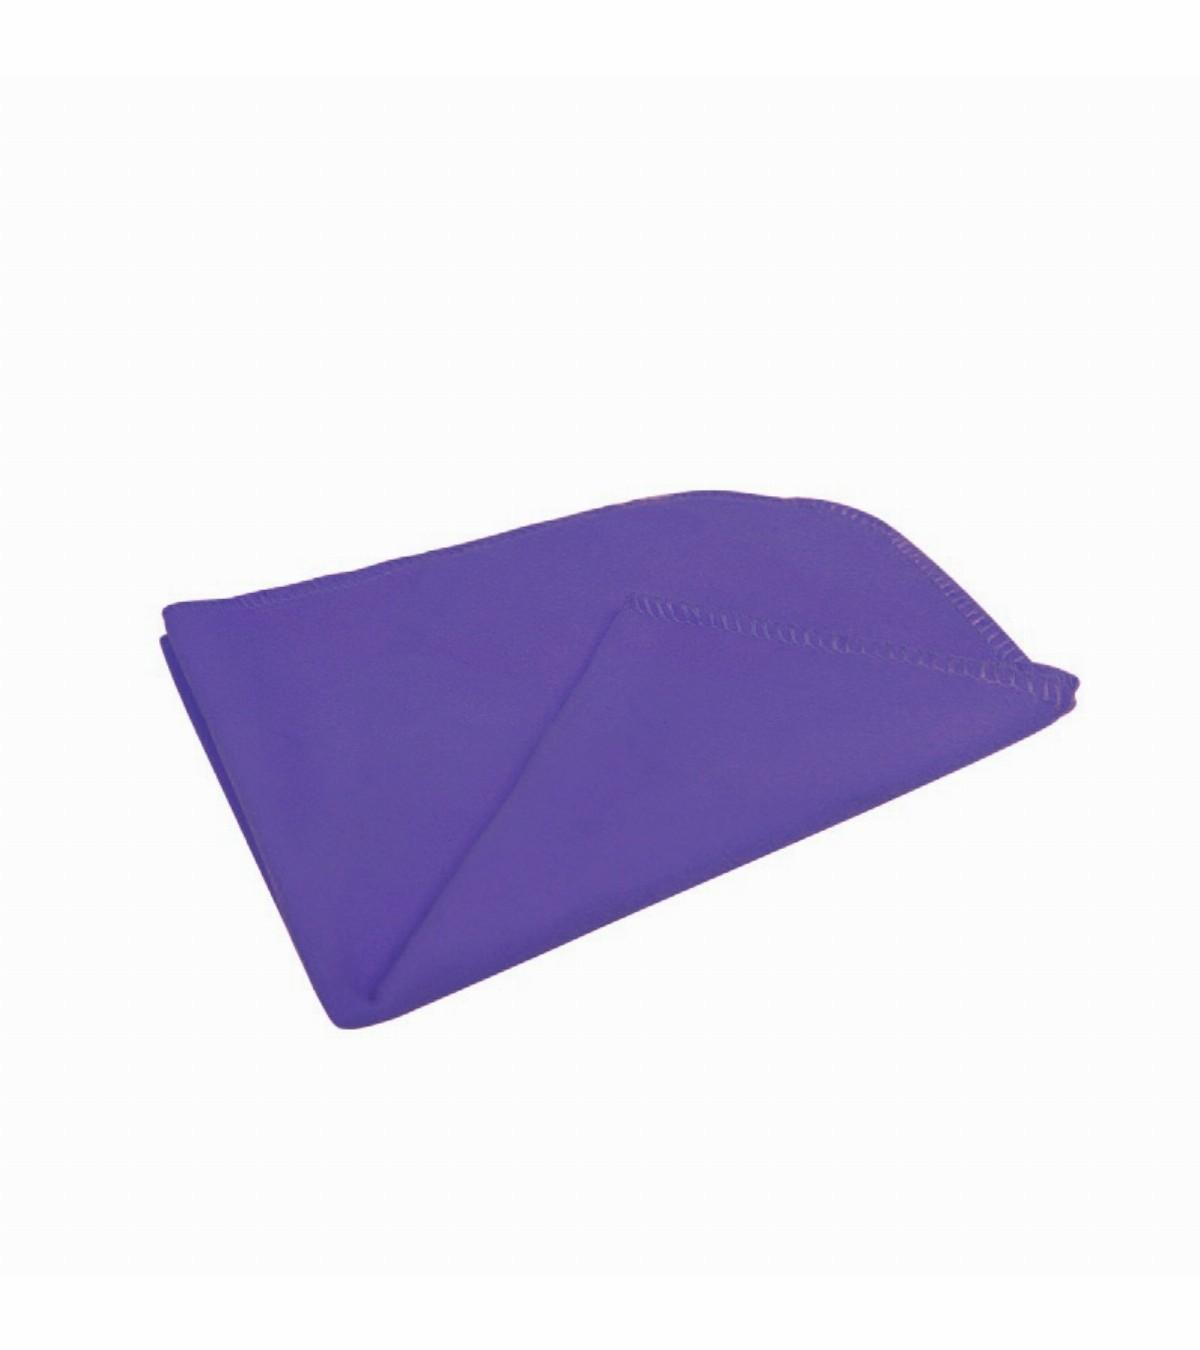towel: (140, 493, 1104, 1013)
